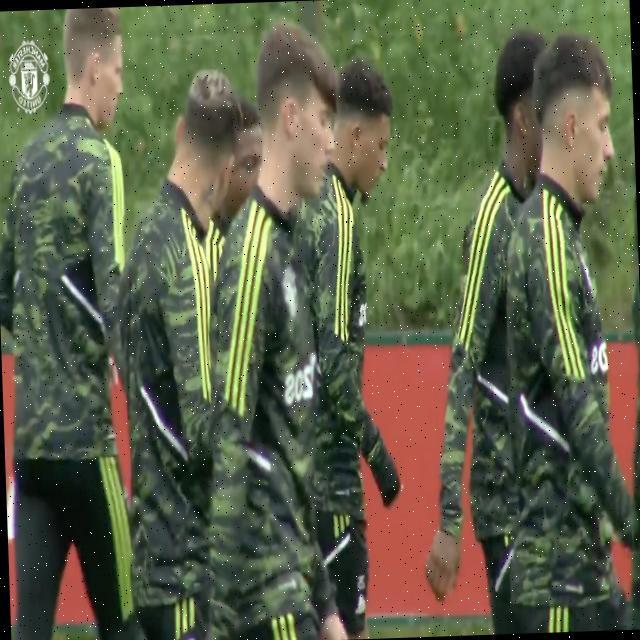Adidas: (354, 593, 367, 617)
